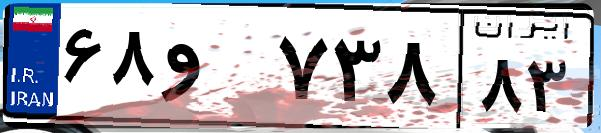3: (330, 28, 385, 110), (525, 38, 570, 115)
6: (57, 26, 110, 100)
7: (270, 28, 330, 110)
8: (385, 28, 445, 110), (475, 38, 525, 113), (110, 28, 158, 98)
و: (158, 20, 270, 120)
